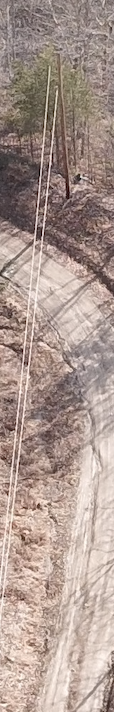pole: (33, 41, 99, 205)
